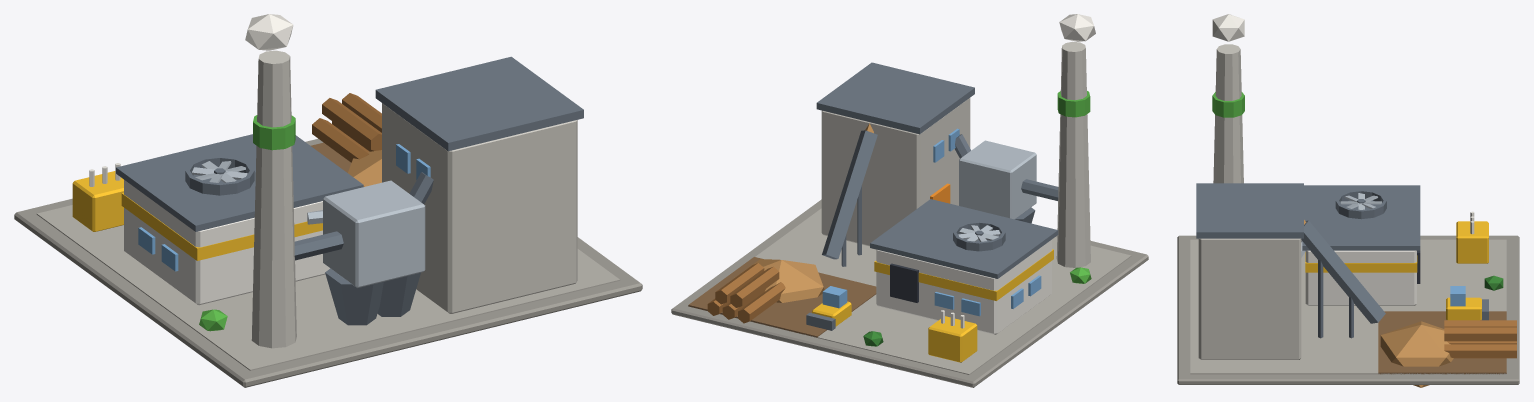
Rendered from biomass_plant.glb.
3 renders of one model, left to right at view 1: azimuth 30°, elevation 25°; view 2: azimuth 150°, elevation 25°; view 3: azimuth 270°, elevation 25°, orthographic. The views are drawn at different scales.
Visible parts, largest first — view 1: corpo, gira_1.001; view 2: corpo, gira_1.001; view 3: corpo, gira_1.001.
Boxes of the visible parts, <box> form: corpo: <box>14,14,642,387</box>; gira_1.001: <box>192,161,247,182</box>; corpo: <box>671,14,1148,387</box>; gira_1.001: <box>958,225,1000,241</box>; corpo: <box>1177,14,1519,387</box>; gira_1.001: <box>1340,193,1381,209</box>.
Size of the model in its own units: 4 by 3.56 by 4.
